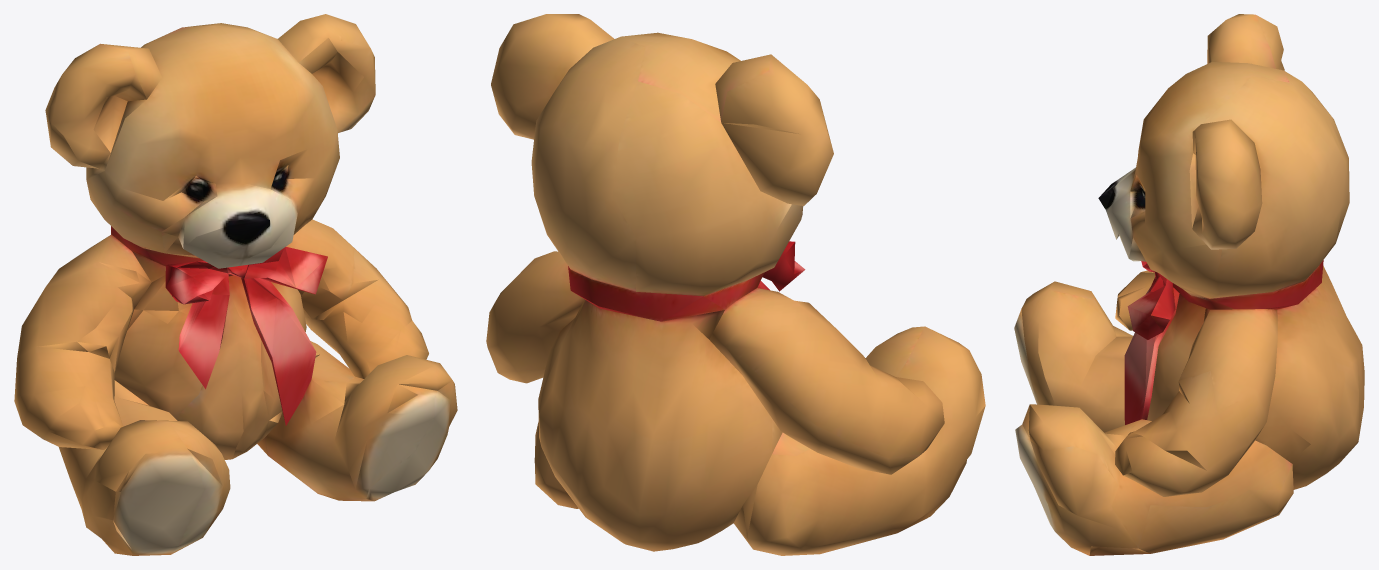
File: teddyBear.glb
3 views of the same model, side by side, from view 1: azimuth 30°, elevation 25°; view 2: azimuth 150°, elevation 25°; view 3: azimuth 270°, elevation 25° (orthographic). The views are drawn at different scales.
Visible parts, largest first — view 1: model; view 2: model; view 3: model.
Part boxes in pixels (box(x1,y1,x2,y2)): model: box(14, 14, 457, 555); model: box(486, 14, 985, 555); model: box(1014, 14, 1364, 555).
Bounding box in the file's own units: 1.74 × 1.9 × 1.39.
1 material, 1 textured.
